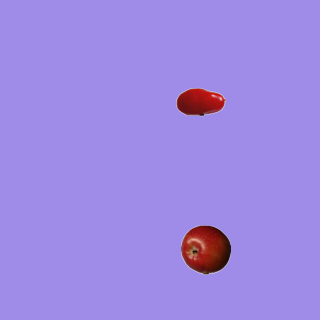Apple Braeburn: (180, 224, 230, 274)
Tomato 2: (175, 76, 225, 126)
